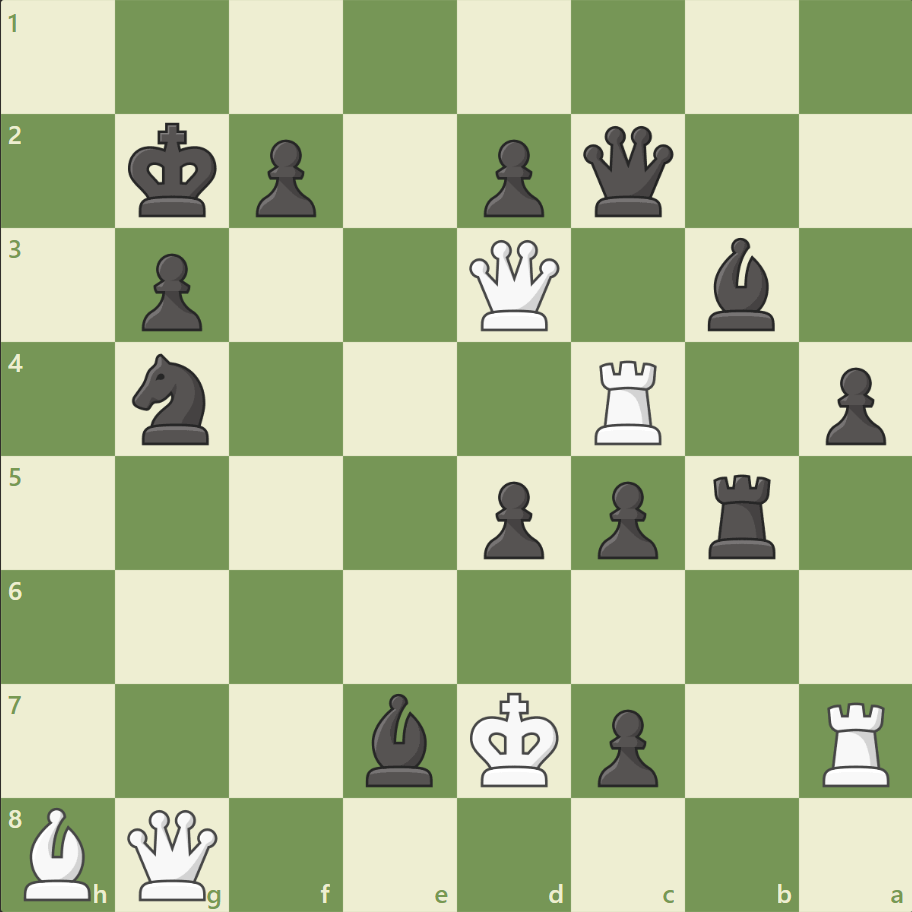B: (17, 801, 101, 904)
K: (465, 685, 565, 793)
Q: (124, 804, 223, 903), (464, 236, 563, 335)
R: (814, 693, 897, 790), (587, 352, 670, 449)
b: (358, 687, 442, 790), (698, 233, 782, 336)
k: (124, 117, 224, 225)
n: (124, 348, 222, 450)
p: (474, 473, 549, 564), (133, 246, 208, 337), (474, 132, 549, 223), (247, 132, 322, 223), (588, 700, 662, 791), (588, 473, 662, 564), (815, 359, 889, 450)
q: (578, 122, 677, 222)
r: (700, 466, 783, 563)
